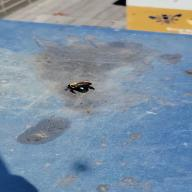Bee: (63, 81, 98, 95)
